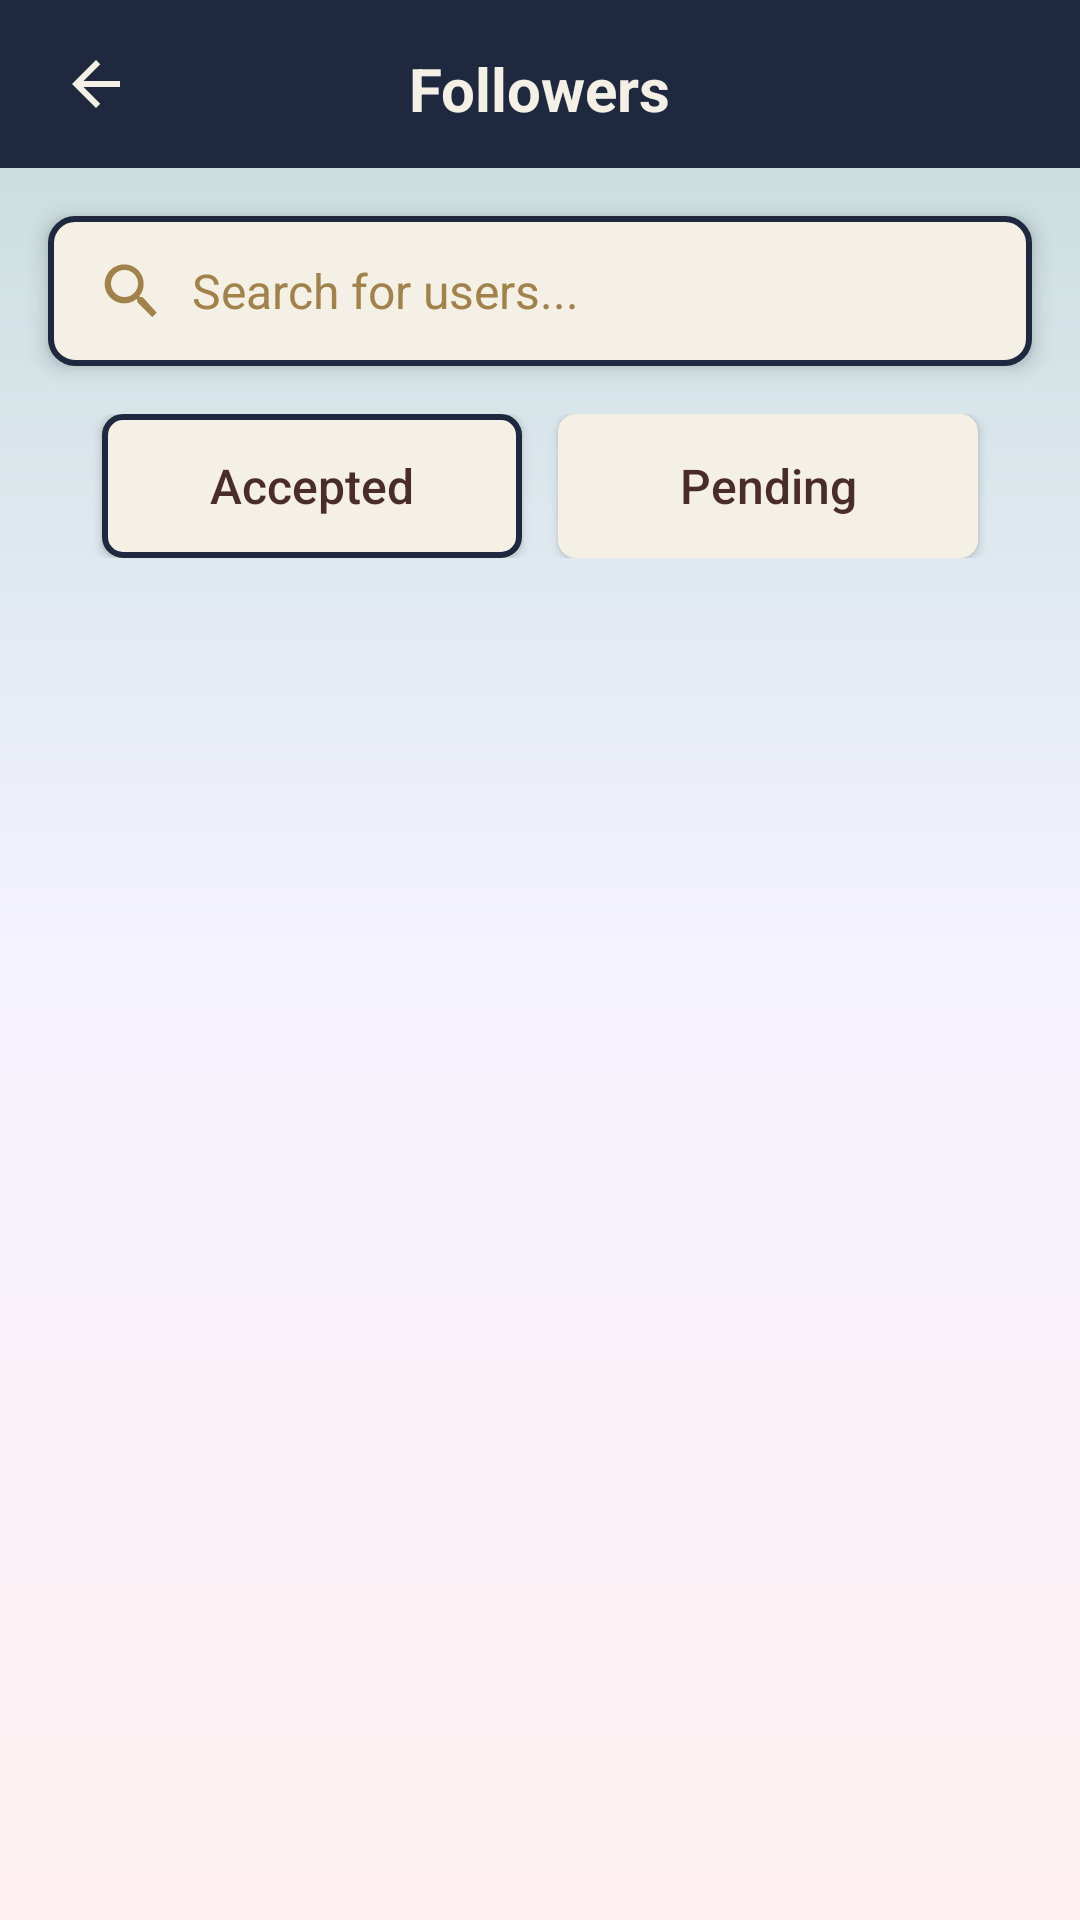

Icon click points for this 1080×1920 phone screenshot, format (x,y):
arrow back: (96,84)
